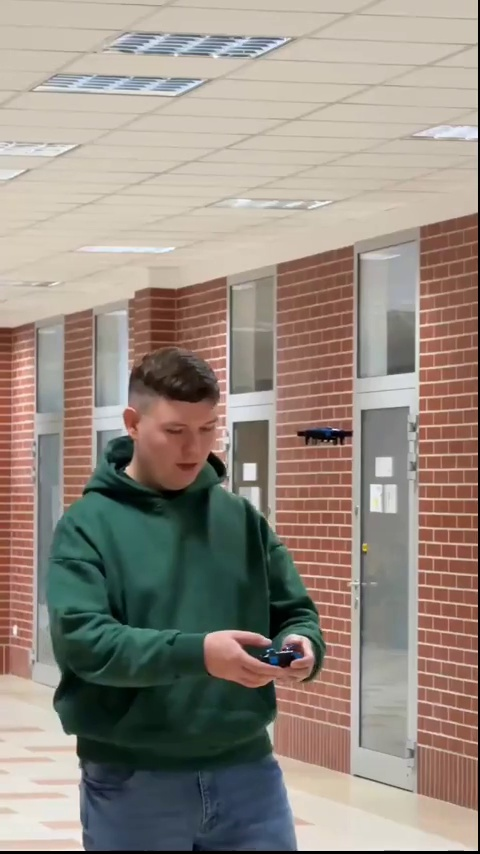drone: (293, 424, 357, 448)
no vest: (49, 344, 311, 836)
